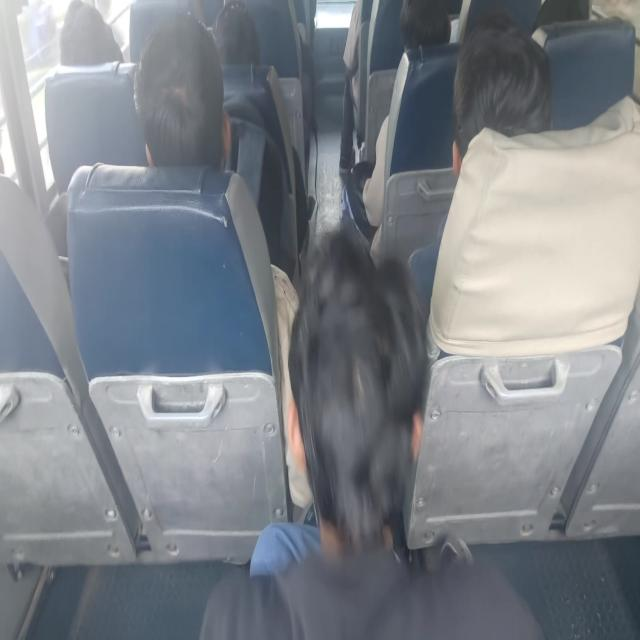person: (199, 227, 544, 638), (133, 12, 314, 512), (249, 226, 427, 580), (133, 12, 298, 284), (406, 14, 553, 318), (341, 0, 455, 252), (211, 2, 312, 264), (451, 14, 552, 179), (132, 12, 232, 170), (59, 0, 124, 66)
